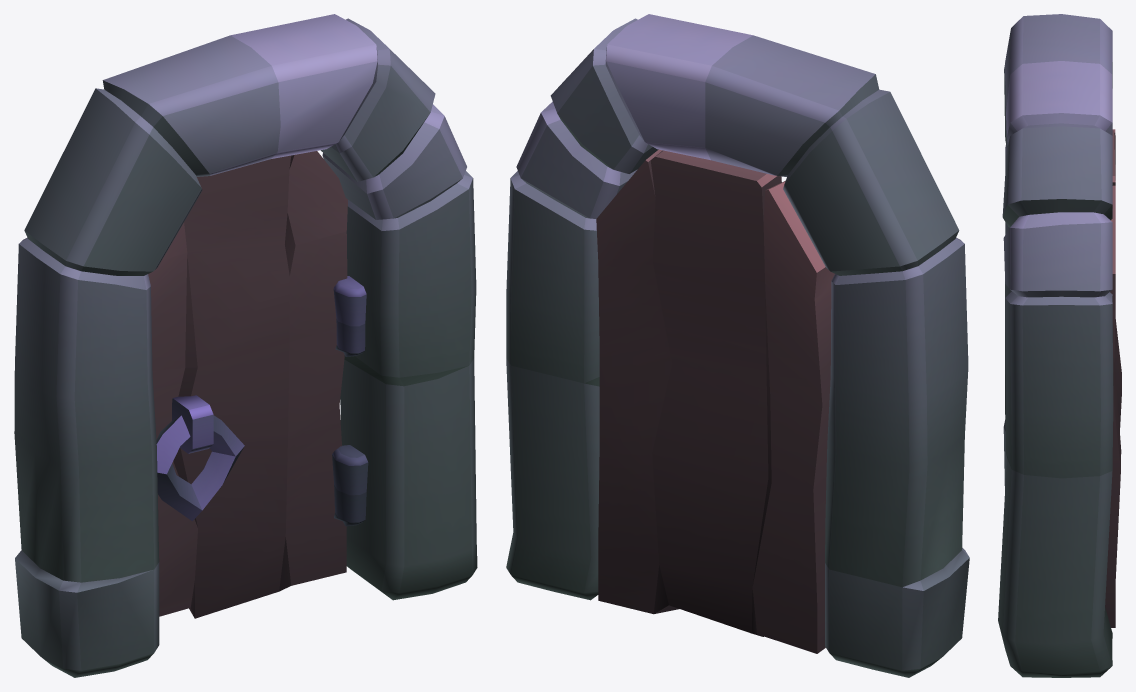
File: undead_door.fbx
3 views of the same model, side by side, from view 1: azimuth 30°, elevation 25°; view 2: azimuth 150°, elevation 25°; view 3: azimuth 270°, elevation 25° (orthographic). The views are drawn at different scales.
Visible parts, largest first — view 1: undead_door; view 2: undead_door; view 3: undead_door.
Part boxes in pixels (x1=…): undead_door: x1=14, y1=14, x2=477, y2=677; undead_door: x1=506, y1=14, x2=969, y2=677; undead_door: x1=998, y1=14, x2=1121, y2=677.
Size of the model in its own units: 2.21 by 2.82 by 0.5973.
